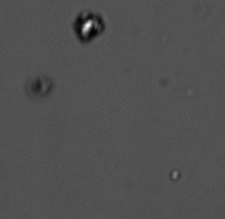Dead Cell: (26, 74, 54, 99)
Living Cell: (73, 12, 105, 42)
